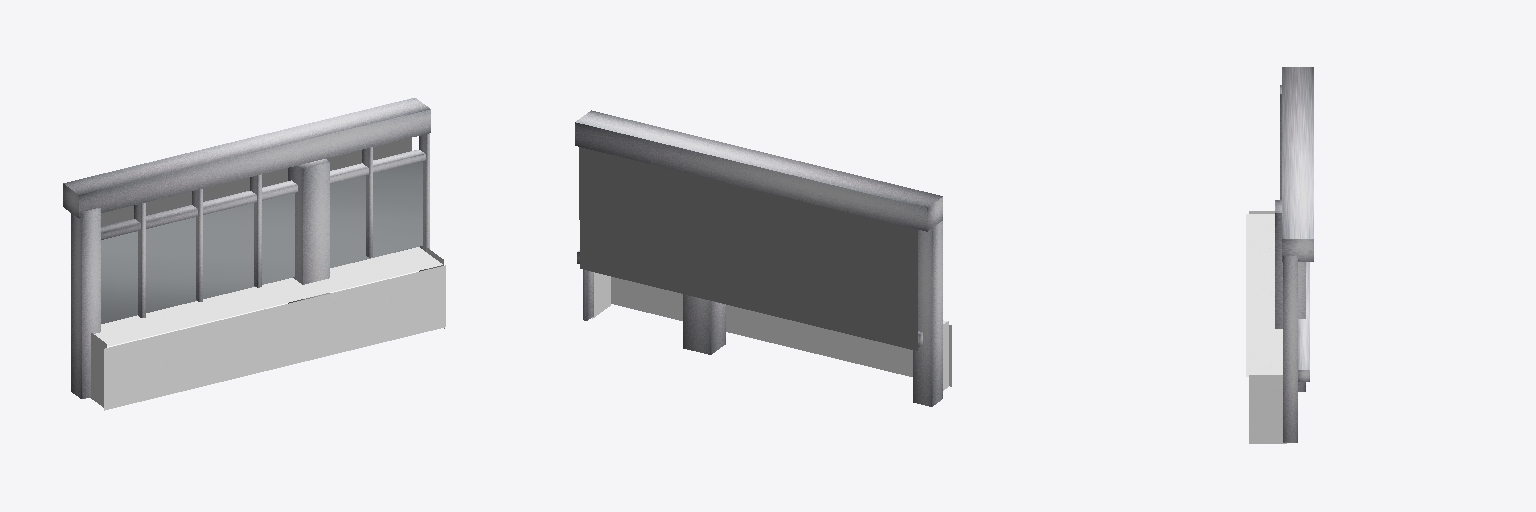
3 renders of one model, left to right at view 1: azimuth 30°, elevation 25°; view 2: azimuth 150°, elevation 25°; view 3: azimuth 270°, elevation 25°, orthographic.
Visible parts, largest first — view 1: Plane001, Plane002, Box008, Plane003, Box001, Box003, Box009, Plane007, Box004, Box005, Plane005, Box002 (+2 smaller); view 2: Plane007, Box008, Plane002, Box001, Box003, Plane006, Box002; view 3: Box008, Plane003, Box002, Plane006, Box003, Box007.
Part boxes in pixels (x1,y1,x2,y2): Plane001: (101, 162, 422, 323); Plane002: (104, 265, 445, 410); Box008: (63, 98, 430, 218); Plane003: (94, 247, 442, 346); Box001: (71, 208, 100, 398); Box003: (288, 159, 329, 303); Box009: (101, 150, 425, 239); Plane007: (101, 138, 411, 226); Box004: (134, 203, 145, 317); Box005: (250, 174, 261, 287); Plane005: (90, 333, 106, 407); Box002: (419, 133, 429, 271); Plane007: (579, 147, 917, 350); Box008: (575, 110, 942, 231); Plane002: (611, 277, 951, 386); Box001: (913, 221, 942, 406); Box003: (683, 294, 725, 354); Plane006: (592, 272, 610, 318); Box002: (583, 270, 593, 320); Box008: (1282, 67, 1313, 261); Plane003: (1246, 214, 1282, 376); Box002: (1283, 256, 1297, 442); Plane006: (1249, 375, 1286, 443); Box003: (1275, 200, 1305, 391); Box007: (1298, 262, 1309, 381).
Size of the model in its own units: 186 by 104 by 30.83.
4 materials, 3 textured.